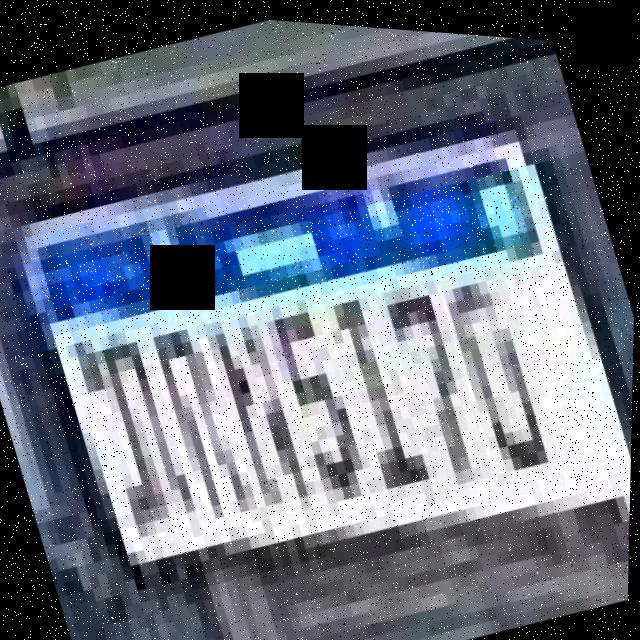0: (437, 253, 568, 478)
5: (256, 288, 382, 507)
7: (378, 268, 501, 491)
I: (321, 277, 443, 500)
N: (204, 307, 321, 516)
R: (142, 312, 262, 527), (96, 322, 201, 520)
